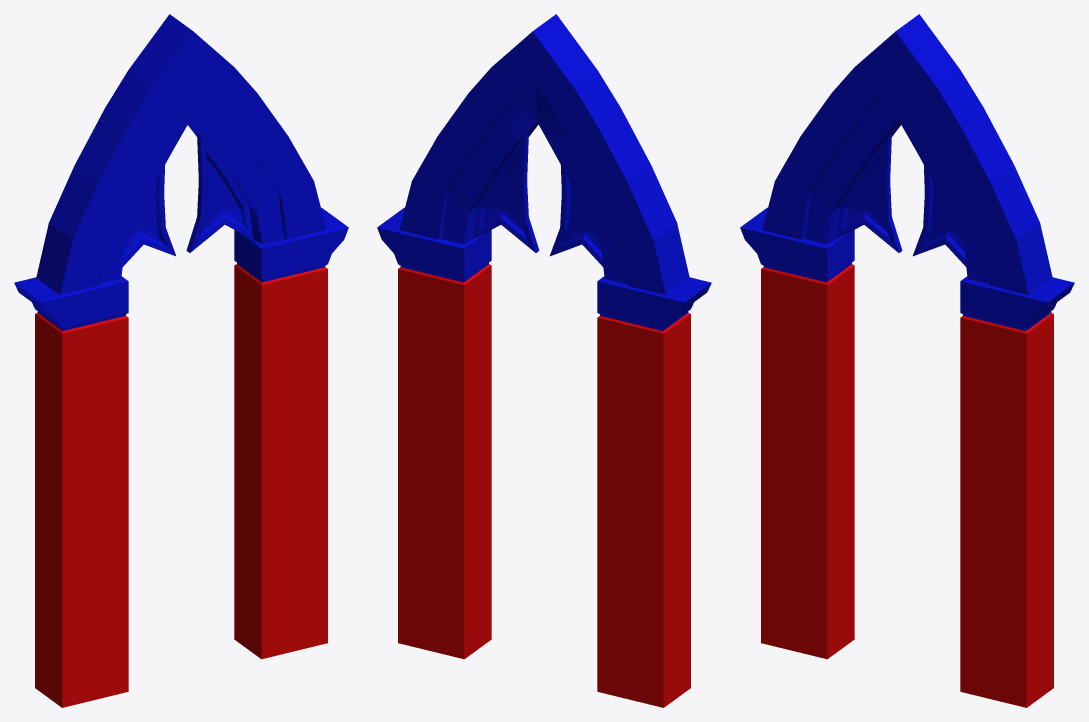
Rendered from arch_low.fbx.
The picture shows the model from 3 angles, left to right: view 1: azimuth 30°, elevation 25°; view 2: azimuth 150°, elevation 25°; view 3: azimuth 330°, elevation 25°; orthographic projection.
Parts seen in each view (by area): view 1: archLP; view 2: archLP; view 3: archLP.
Part boxes in pixels (box(x1,y1,x2,y2)): archLP: box(14, 14, 348, 707); archLP: box(377, 14, 711, 707); archLP: box(740, 14, 1074, 707).
Size of the model in its own units: 0.0252 by 0.0503 by 0.00385.
